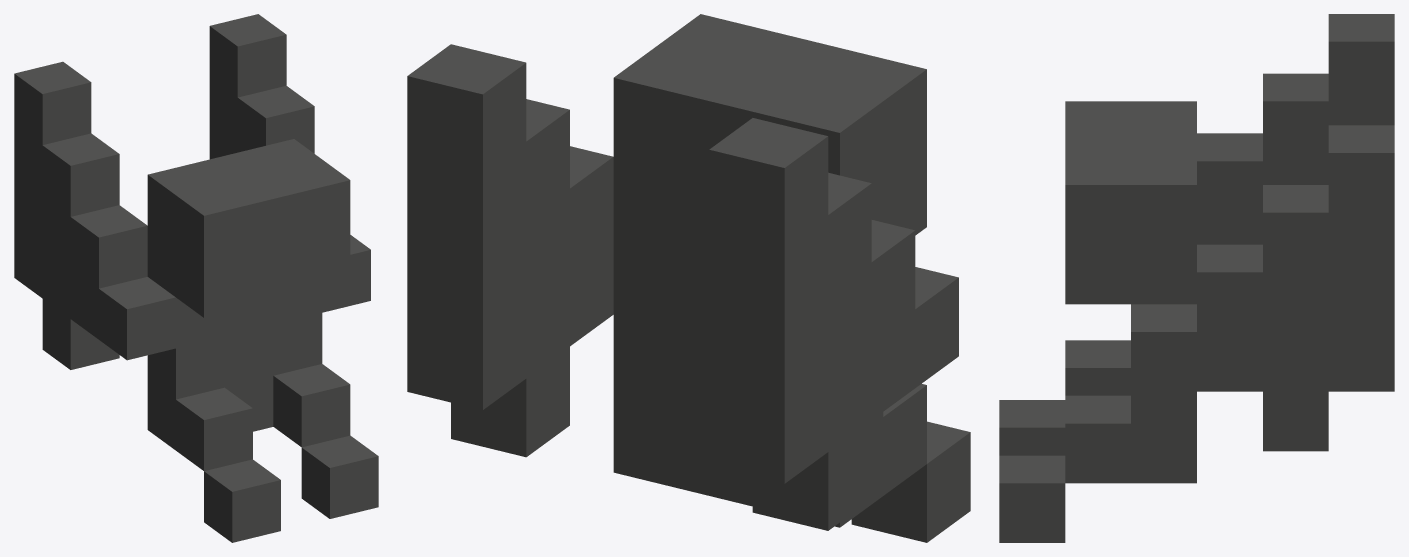
Rendered from church-60-gargoylewide.obj.
3 renders of one model, left to right at view 1: azimuth 30°, elevation 25°; view 2: azimuth 150°, elevation 25°; view 3: azimuth 270°, elevation 25°, orthographic. The views are drawn at different scales.
Parts seen in each view (by area): view 1: gargoylewide; view 2: gargoylewide; view 3: gargoylewide.
Part boxes in pixels (left/top/right/bottom): gargoylewide: left=14, top=14, right=378, bottom=542; gargoylewide: left=407, top=14, right=970, bottom=542; gargoylewide: left=999, top=14, right=1394, bottom=542.
Size of the model in its own units: 0.5 by 0.7 by 0.6.
Materials: 1 (1 with a texture image).
